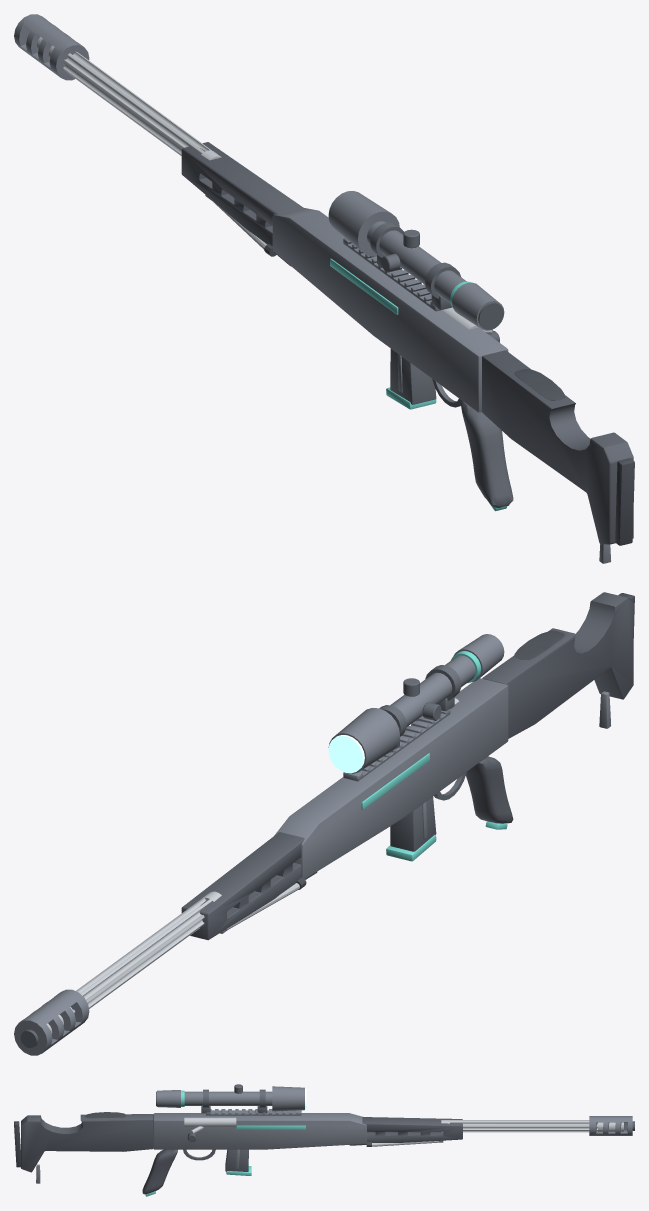
File: weapon_sniper.glb
3 views of the same model, one above another, from view 1: azimuth 30°, elevation 25°; view 2: azimuth 150°, elevation 25°; view 3: azimuth 270°, elevation 25° (orthographic). The views are drawn at different scales.
Parts seen in each view (by area): view 1: weapon_sniper_v3; view 2: weapon_sniper_v3; view 3: weapon_sniper_v3.
Part boxes in pixels (x1=…): weapon_sniper_v3: x1=14, y1=14, x2=634, y2=563; weapon_sniper_v3: x1=14, y1=592, x2=634, y2=1055; weapon_sniper_v3: x1=14, y1=1084, x2=634, y2=1196.
Size of the model in its own units: 0.091 by 0.2775 by 1.43.
